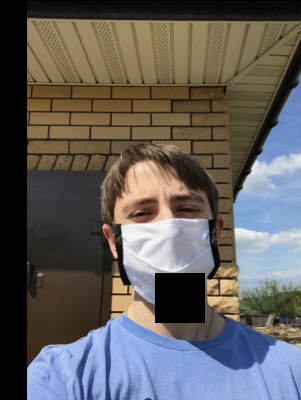with_mask: (113, 182, 218, 309)
